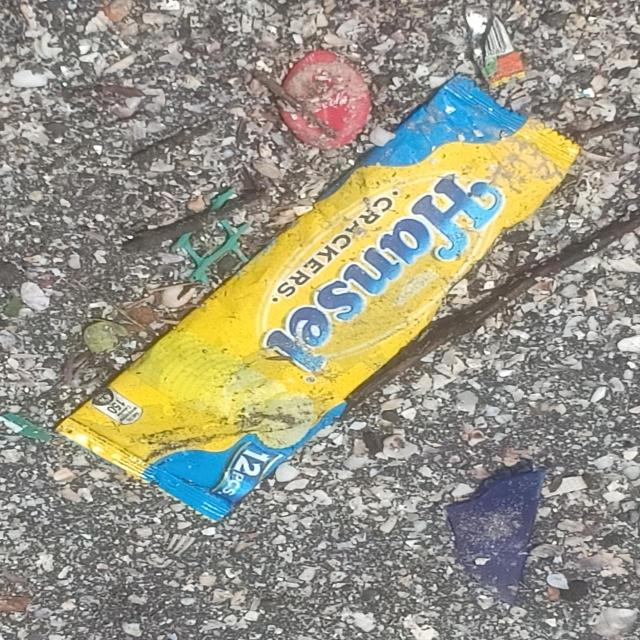plastic_waste: (57, 75, 583, 527)
